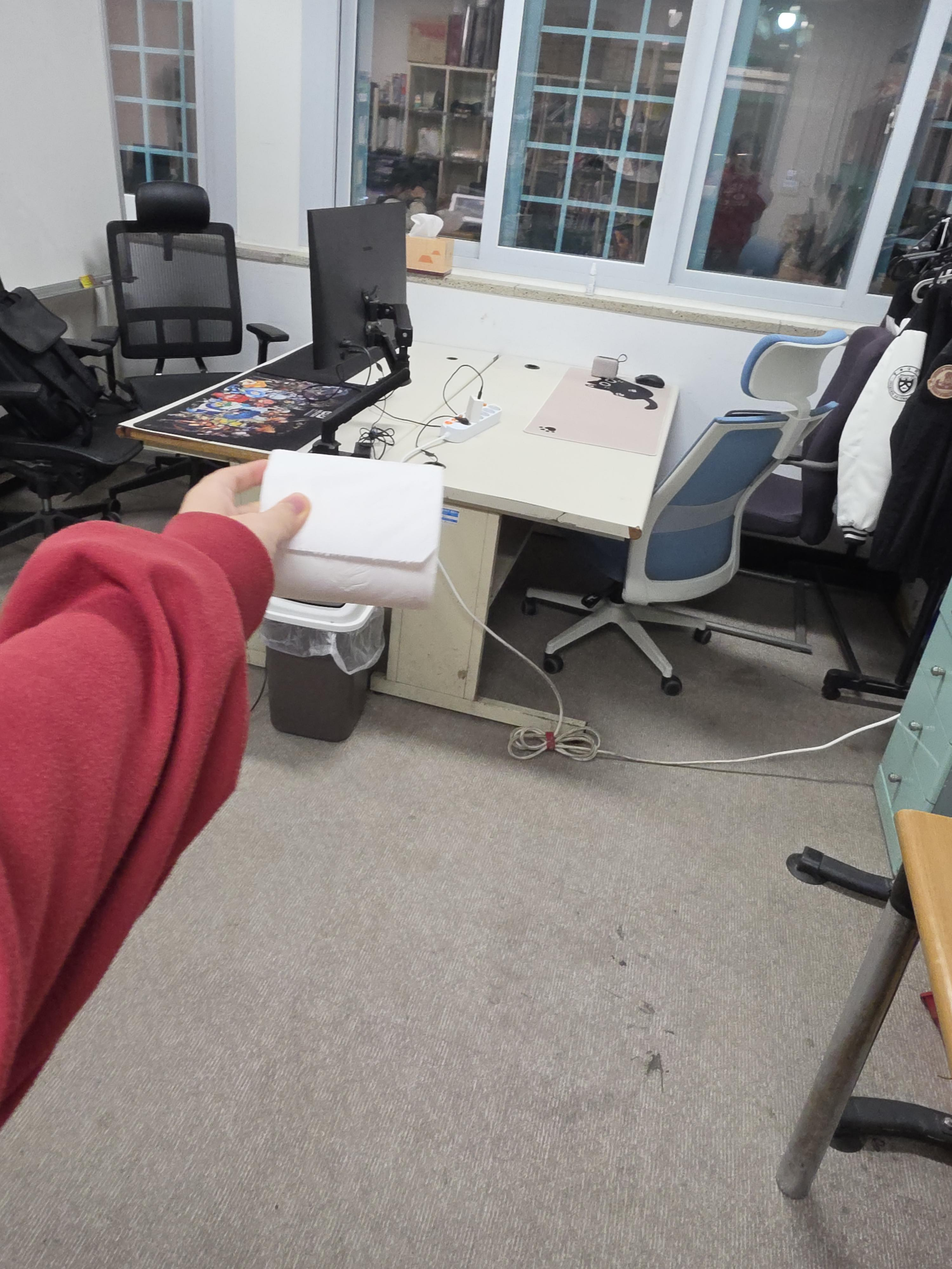tissue: (259, 449, 444, 609), (405, 213, 455, 276)
